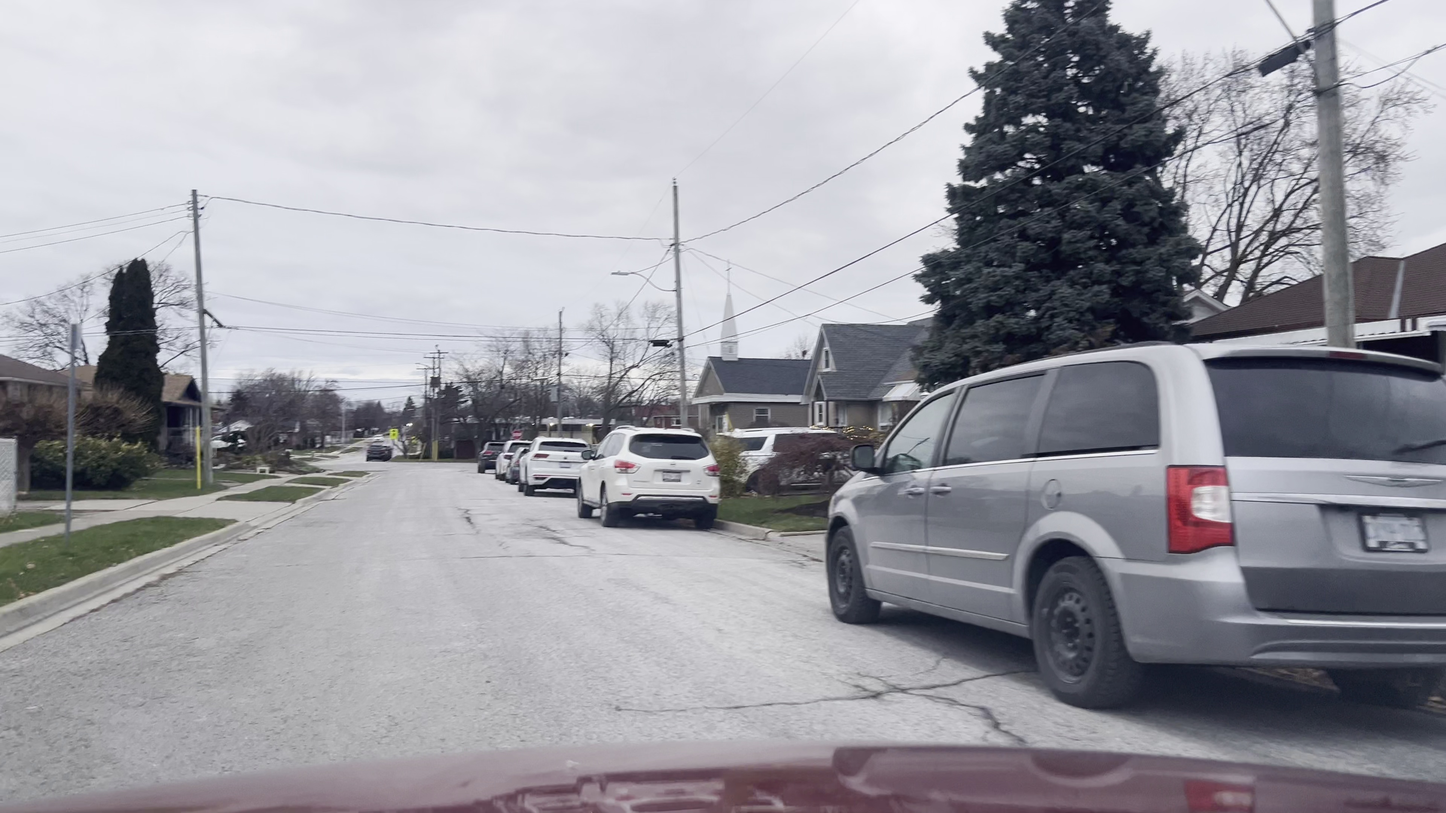cracks: (829, 673, 1025, 735), (511, 512, 581, 552), (449, 493, 481, 538)
